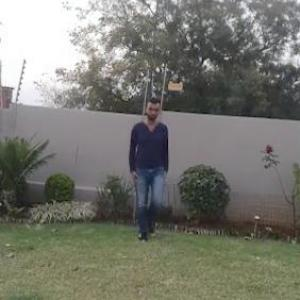follow: (128, 94, 178, 249)
